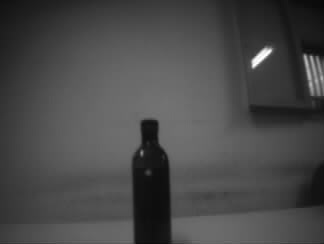Bottle: (131, 119, 171, 244)
